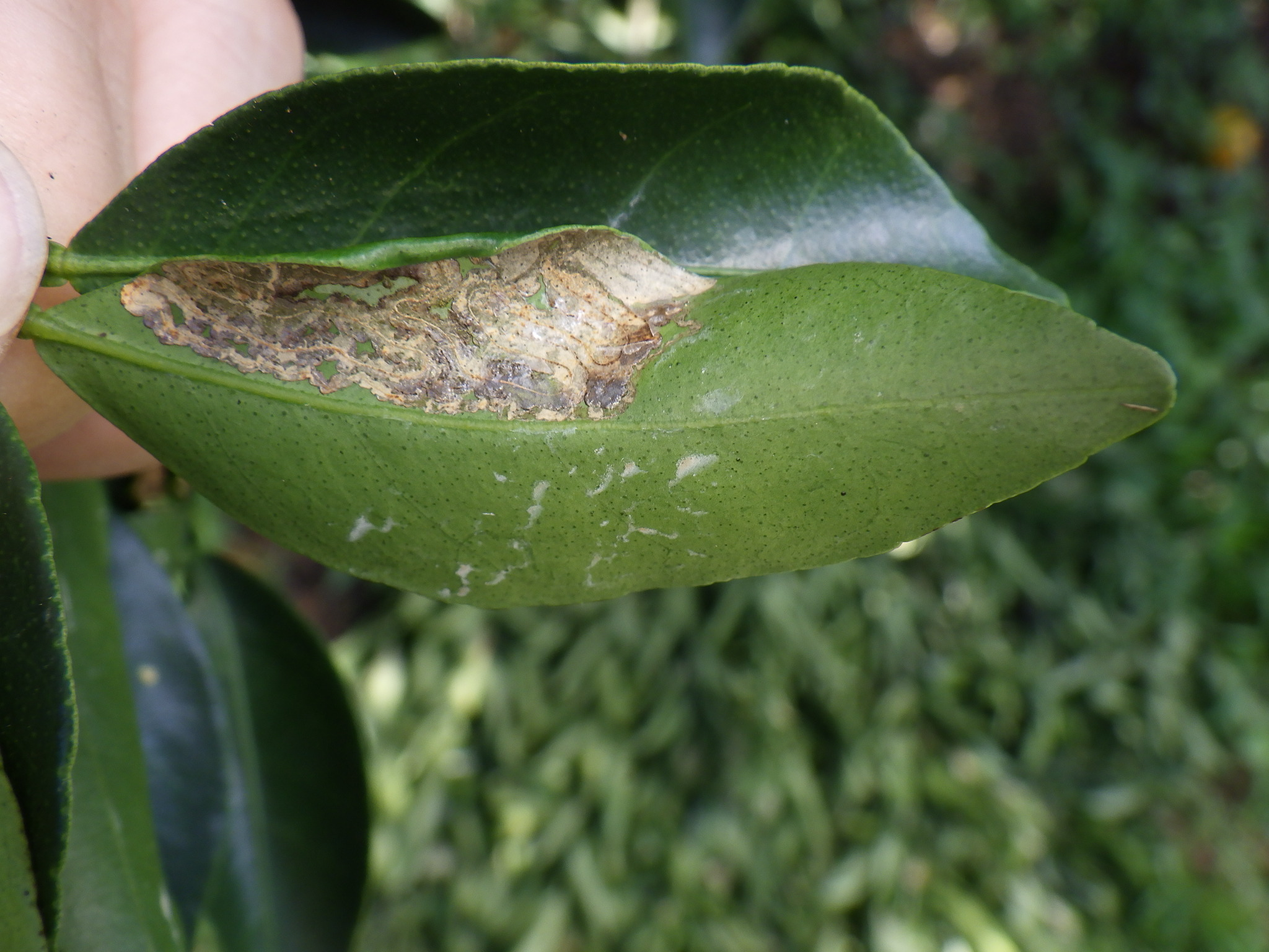Citrus_Leaf_Miner: (120, 230, 714, 420)
